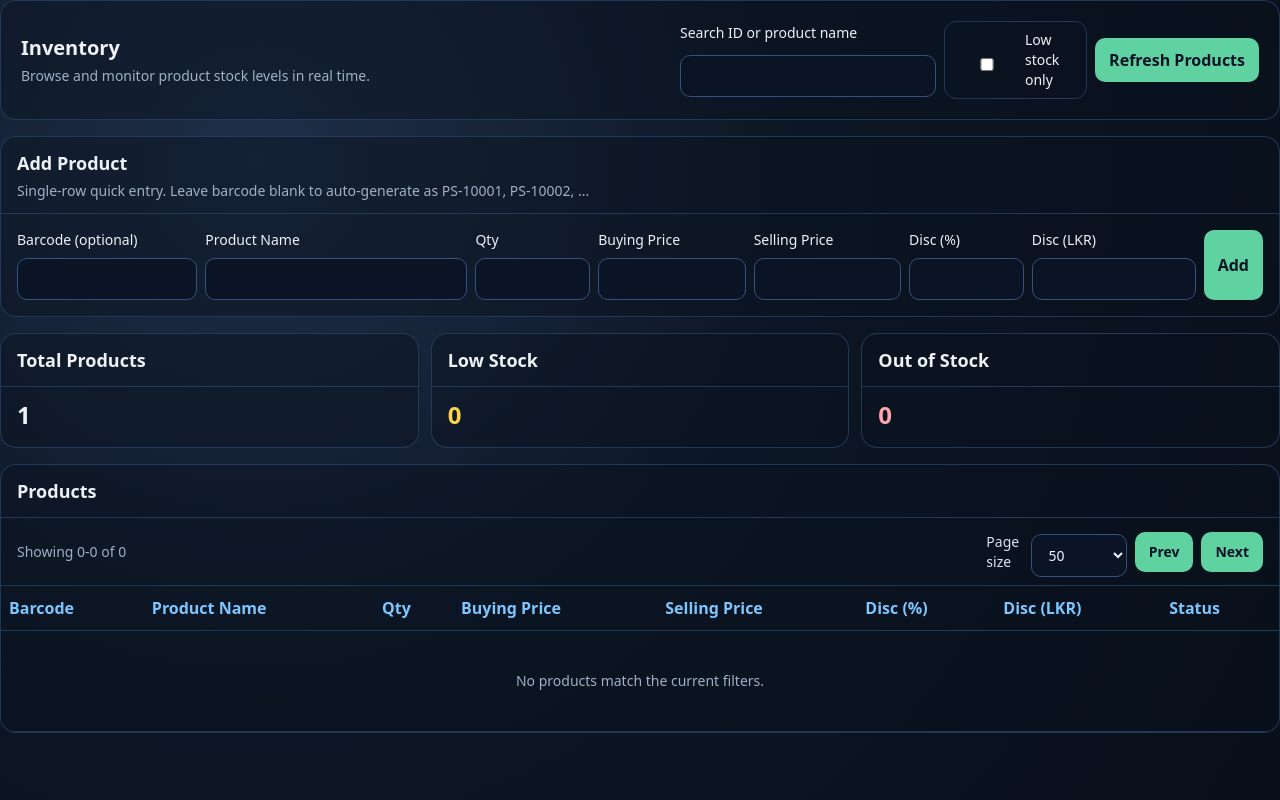
Test case: InventoryTab › shows paginated remote results beyond preloaded products
Type "zebra" into the field labelled "Search ID or product name" at (808, 76), box x1=680 y1=55 x2=936 y2=97
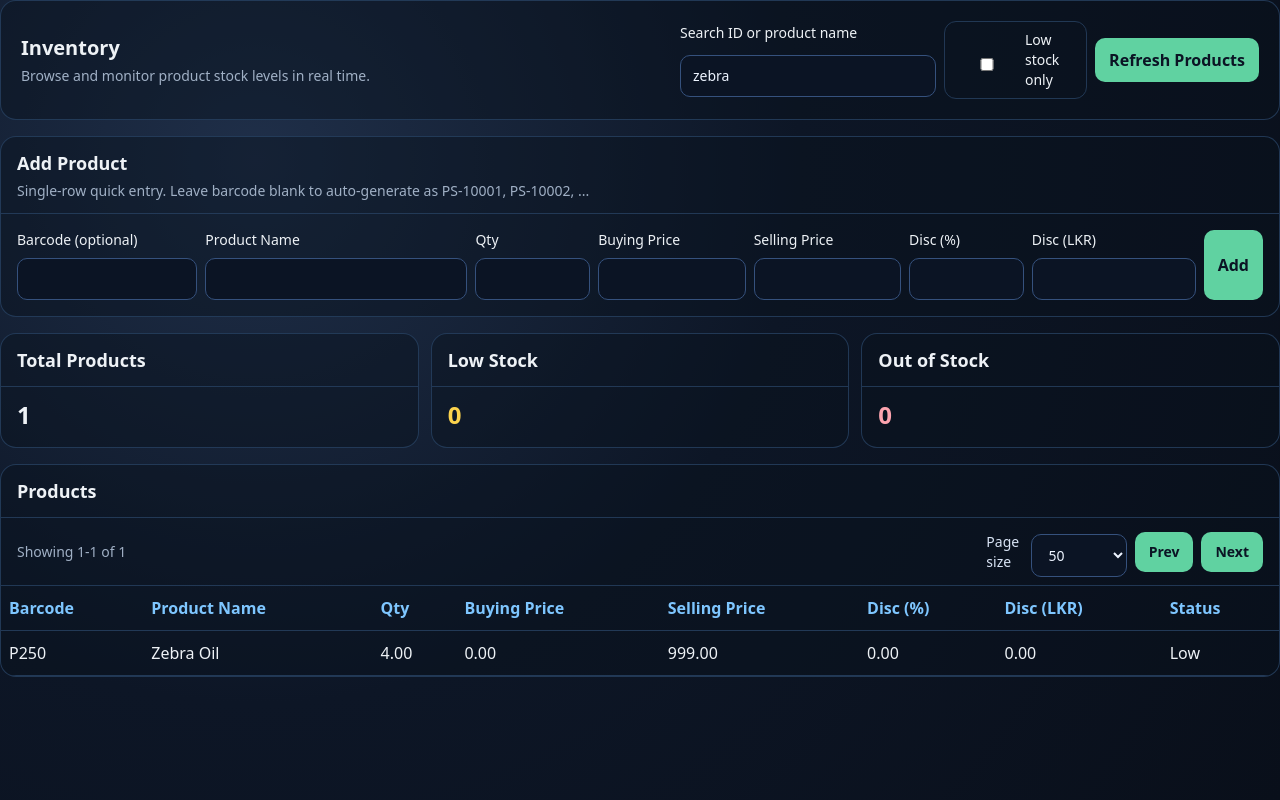
Check: the text "Zebra Oil" is shown, box x1=143 y1=630 x2=373 y2=676
